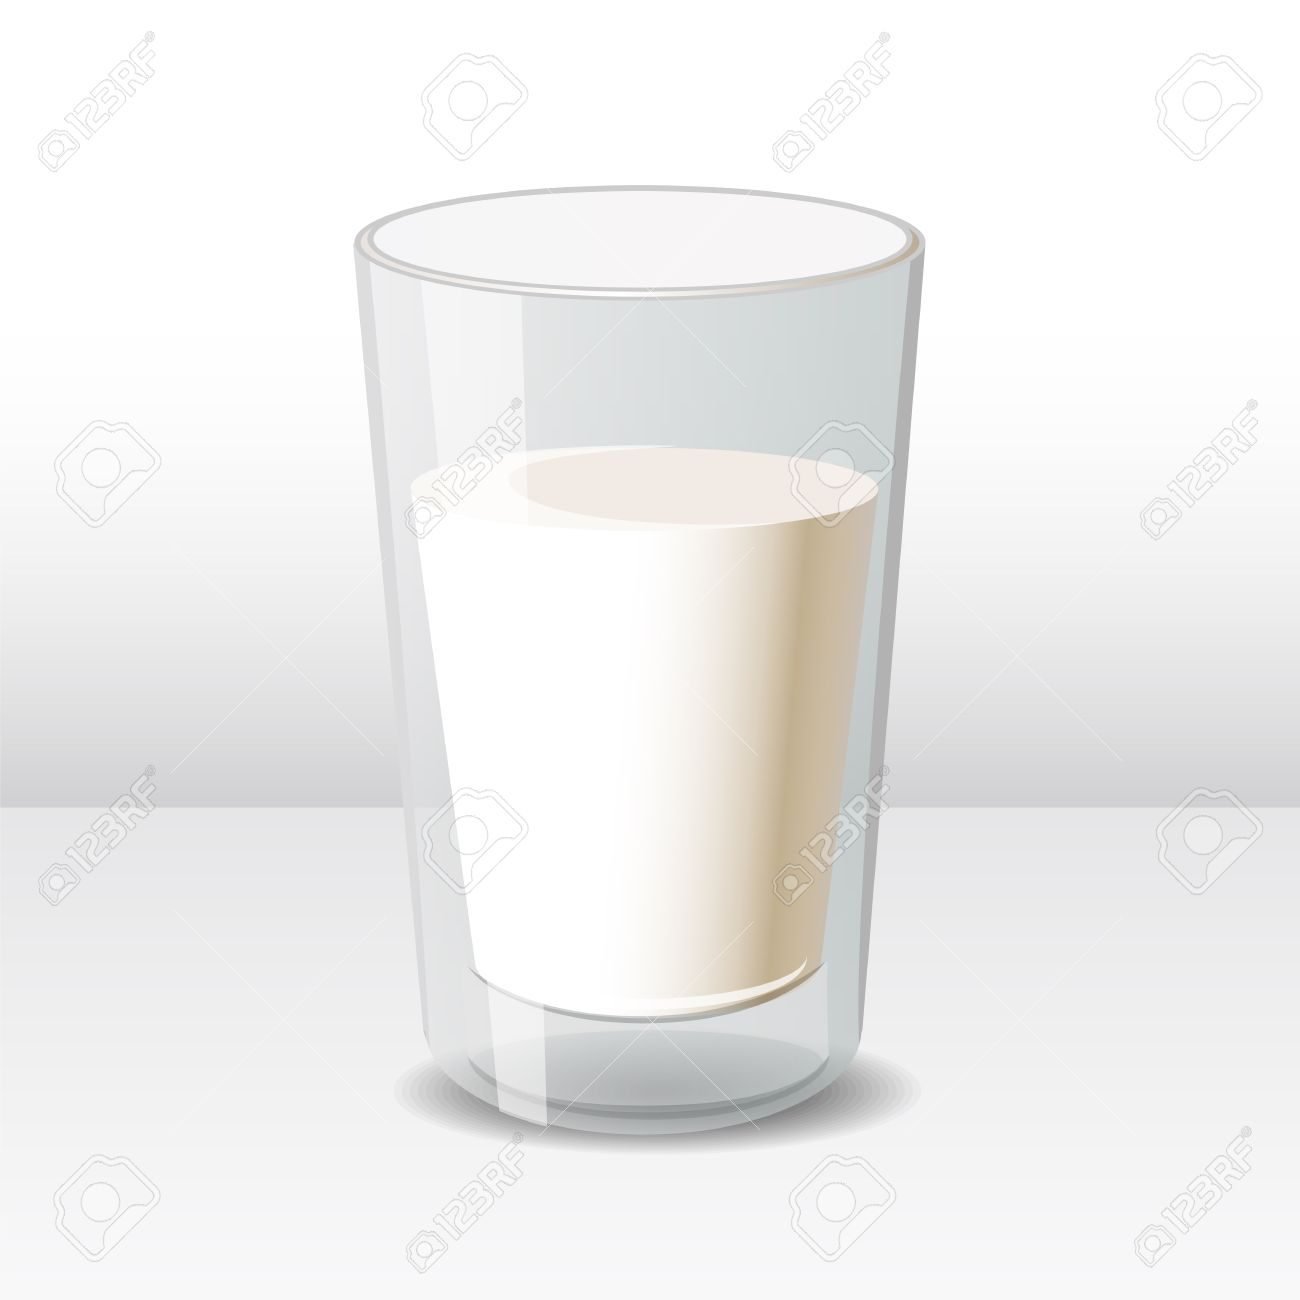glass of milk: (410, 240, 827, 1107)
